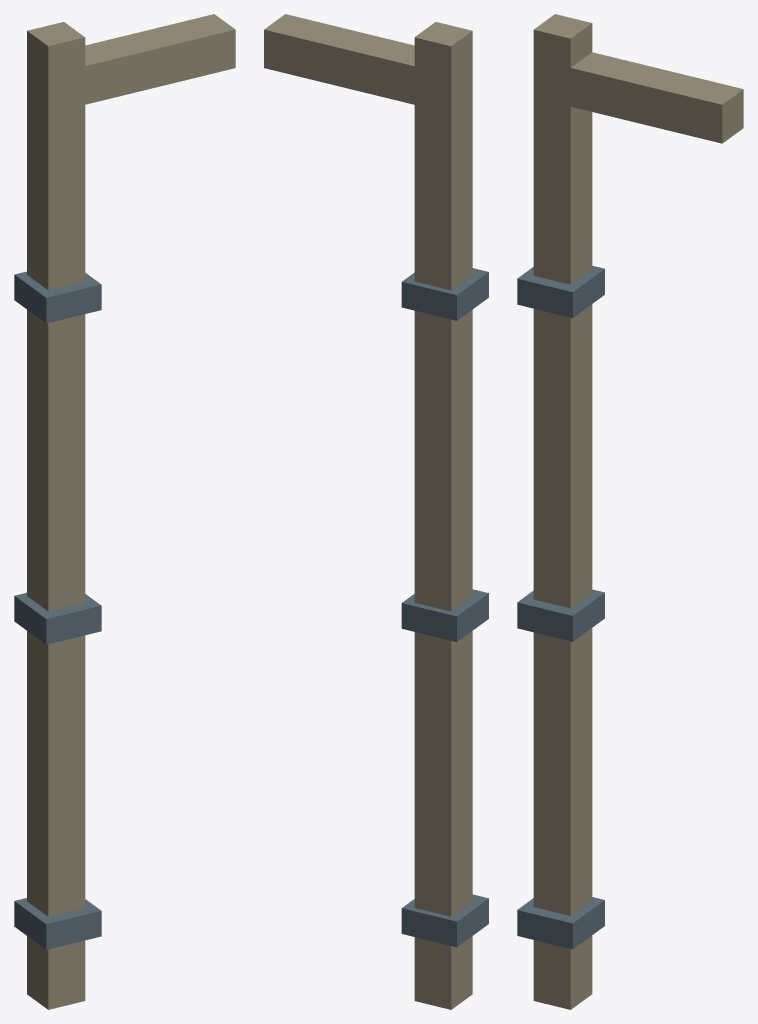
The model's file is service_pipe.glb.
3 renders of one model, left to right at view 1: azimuth 30°, elevation 25°; view 2: azimuth 150°, elevation 25°; view 3: azimuth 330°, elevation 25°, orthographic.
Parts seen in each view (by area): view 1: service_pipe; view 2: service_pipe; view 3: service_pipe.
Part boxes in pixels (x1,y1,x2,y2): service_pipe: [14, 14, 235, 1009]; service_pipe: [264, 14, 488, 1009]; service_pipe: [517, 14, 743, 1009].
Size of the model in its own units: 0.64 by 3 by 0.18.
